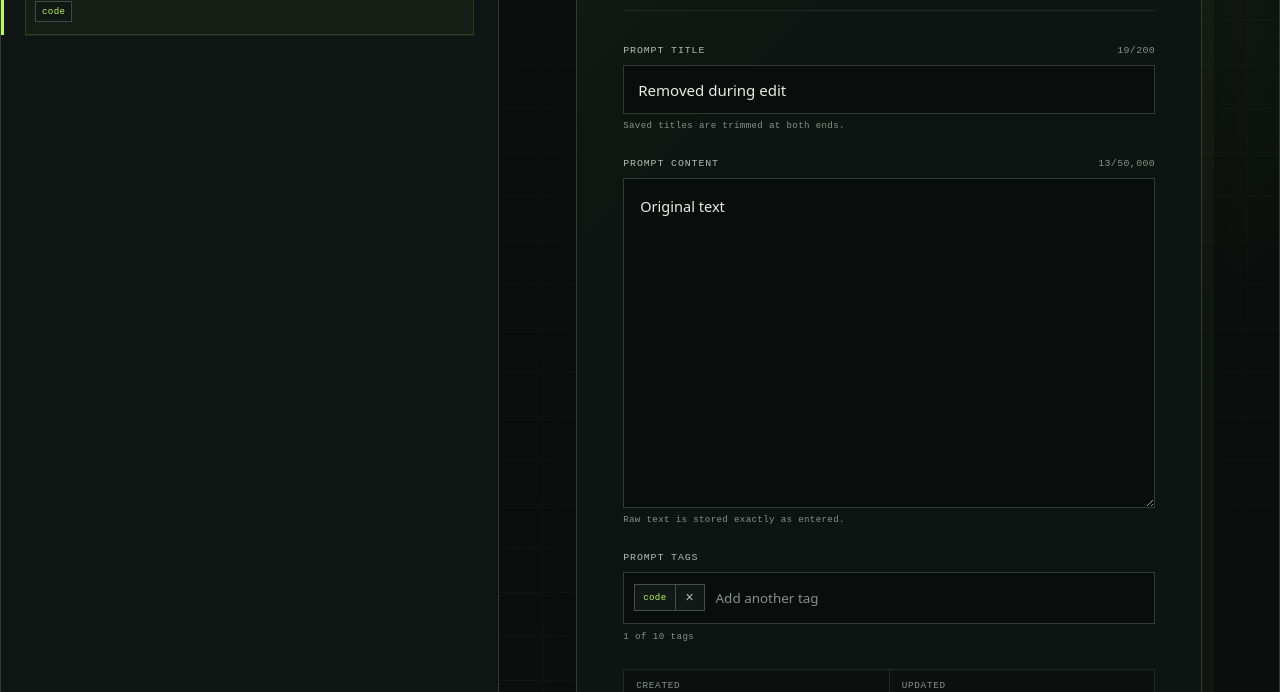
Test case: Prompt Registry editor integration › preserves a dirty selection and offers registry recovery after update 404
(page scrolled)
Replace the text in the text box showing "Original text" with "Keep this local draft" at (889, 343), box [623,178,1155,508]
(page scrolled)
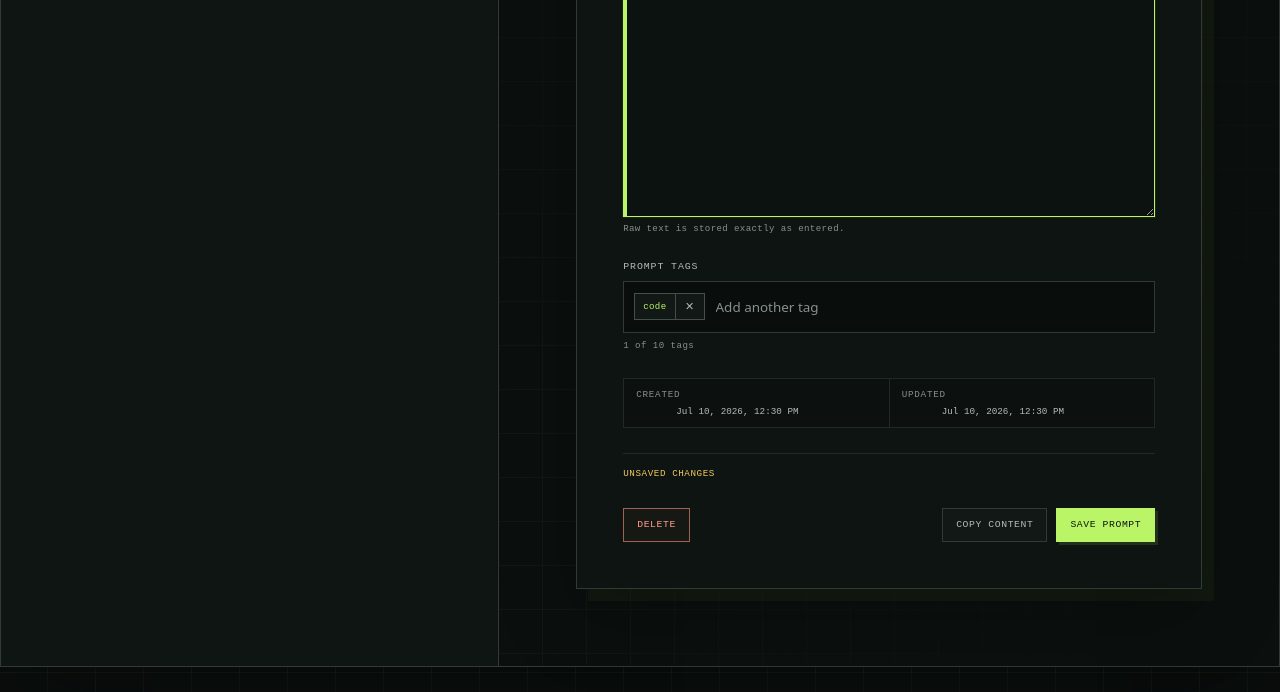
Click the button "Save prompt" at (1106, 525), box [1056,508,1155,542]
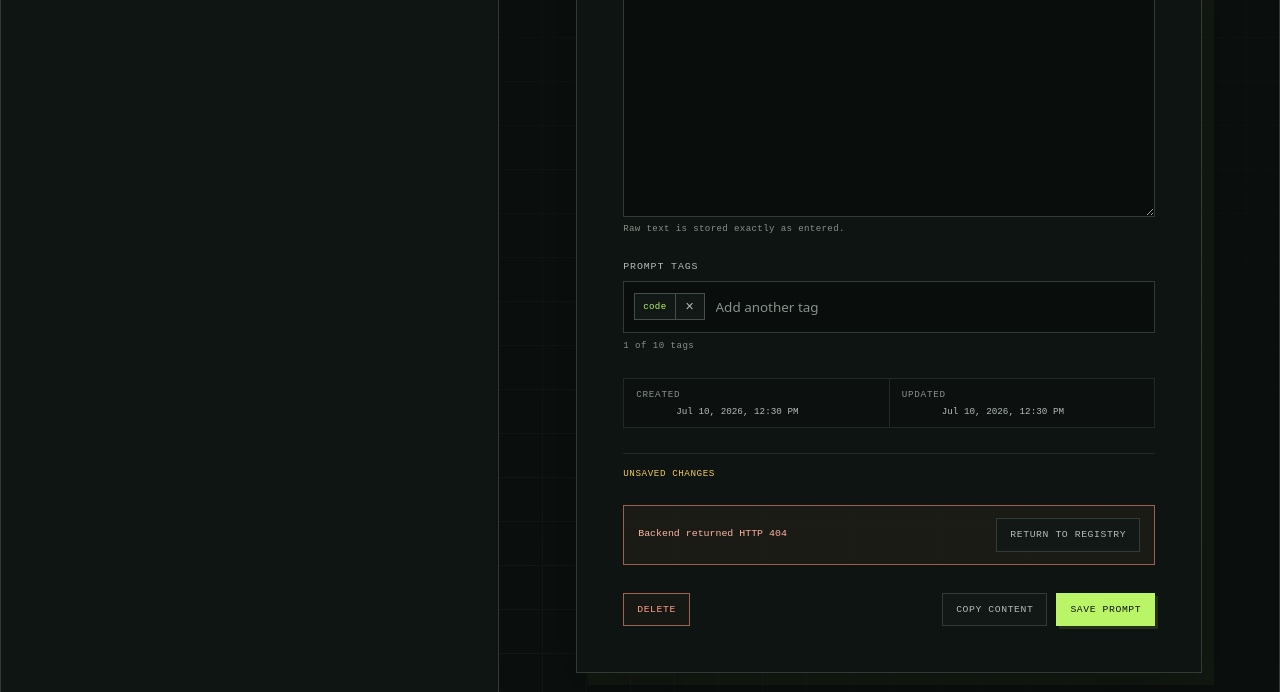
Expected: the text "Unsaved changes" is shown, [623,467,715,480]
Expected: the message shows "Backend returned HTTP 404", [638,528,787,540]
Expected: the button "Return to registry" is shown
Click the button "Return to registry" at (1068, 535), box [996,518,1140,552]
(page scrolled)
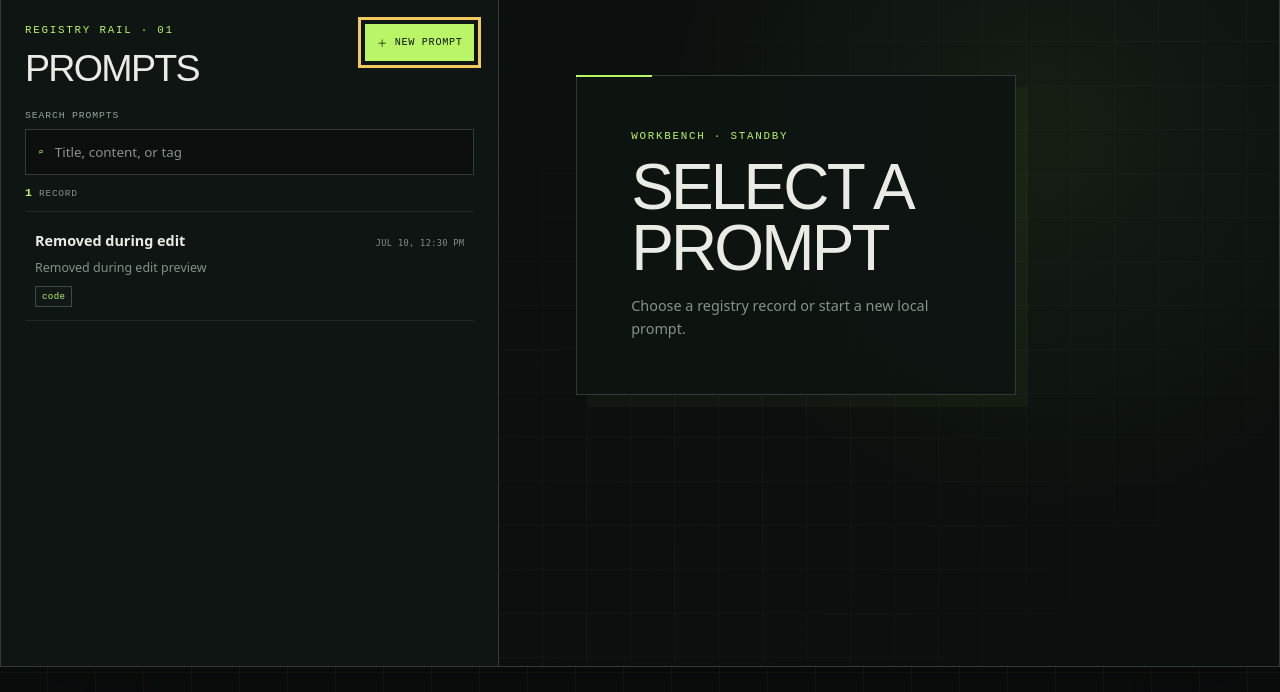
Expected: the heading "Select a prompt" is shown, [631,151,909,284]
